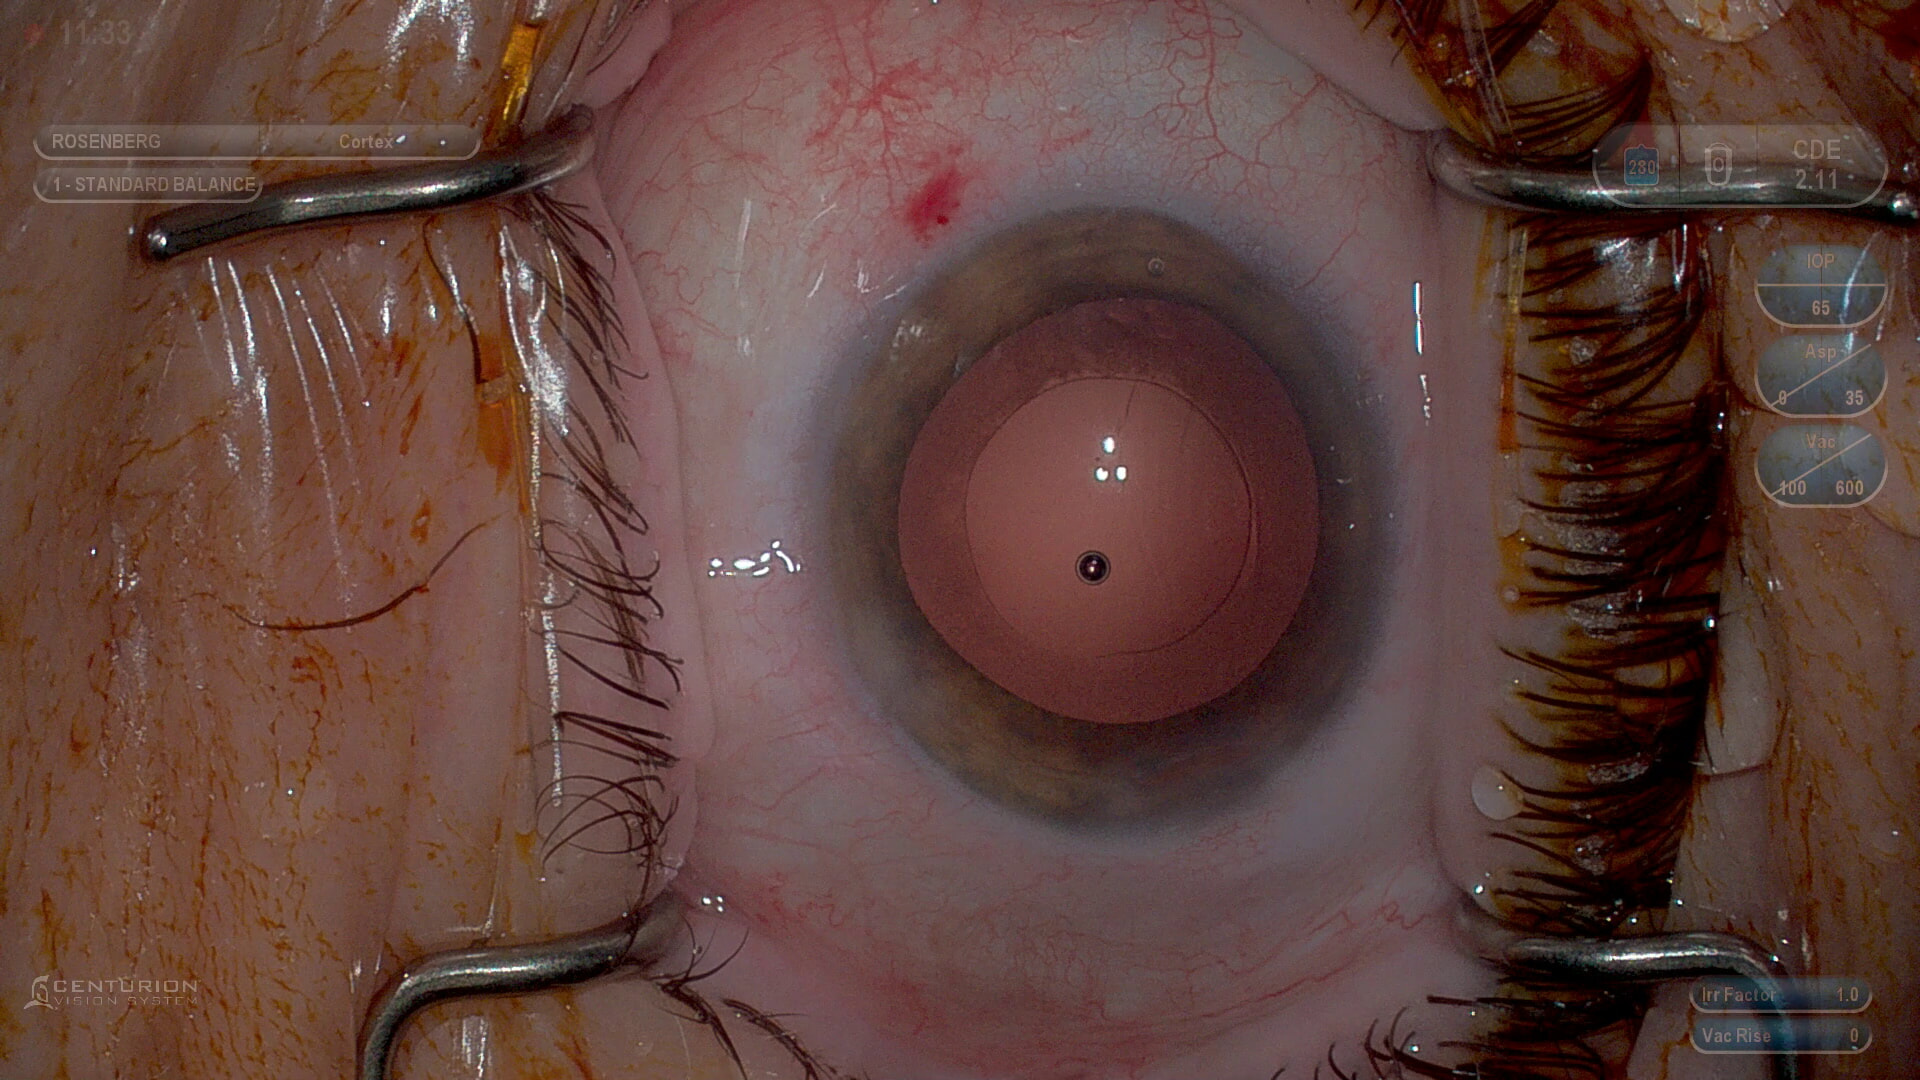iris: (815, 209, 1384, 831)
pupil: (888, 289, 1323, 726)
